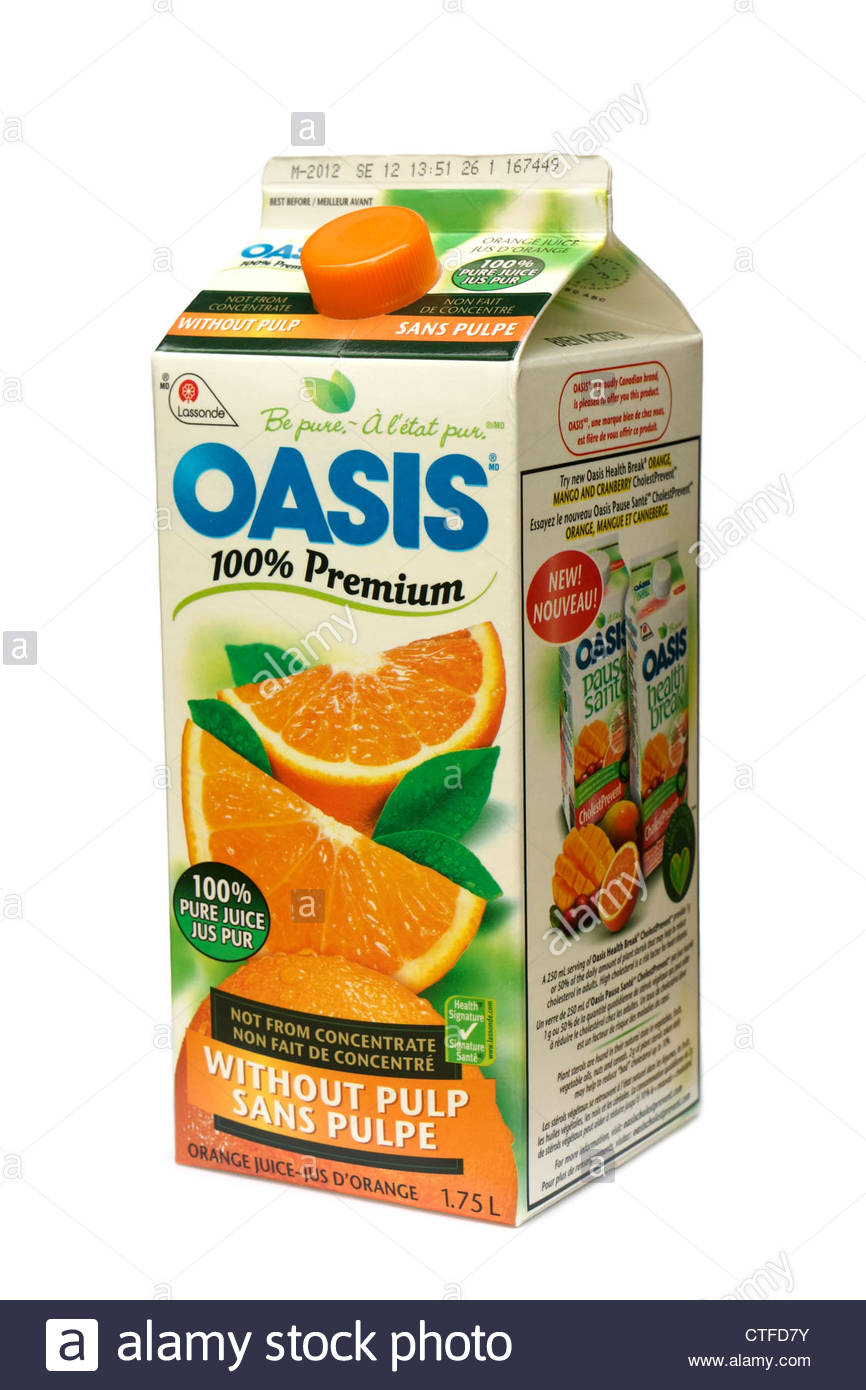carton: (117, 71, 740, 1249)
